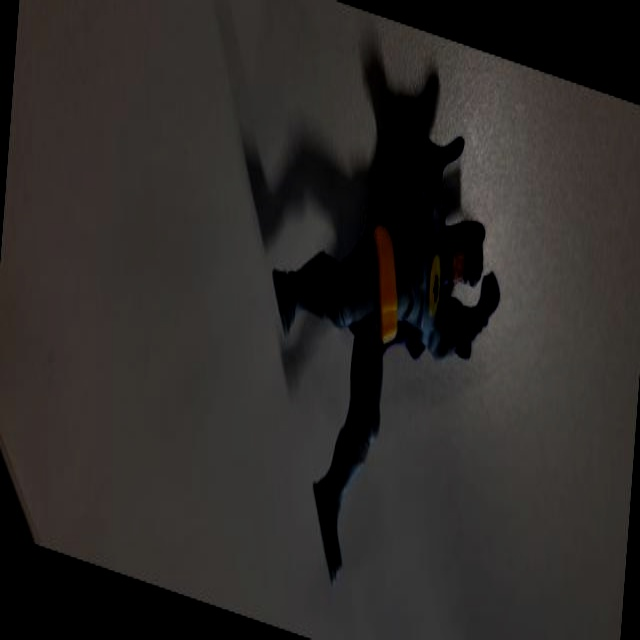Batman: (249, 74, 511, 640)
